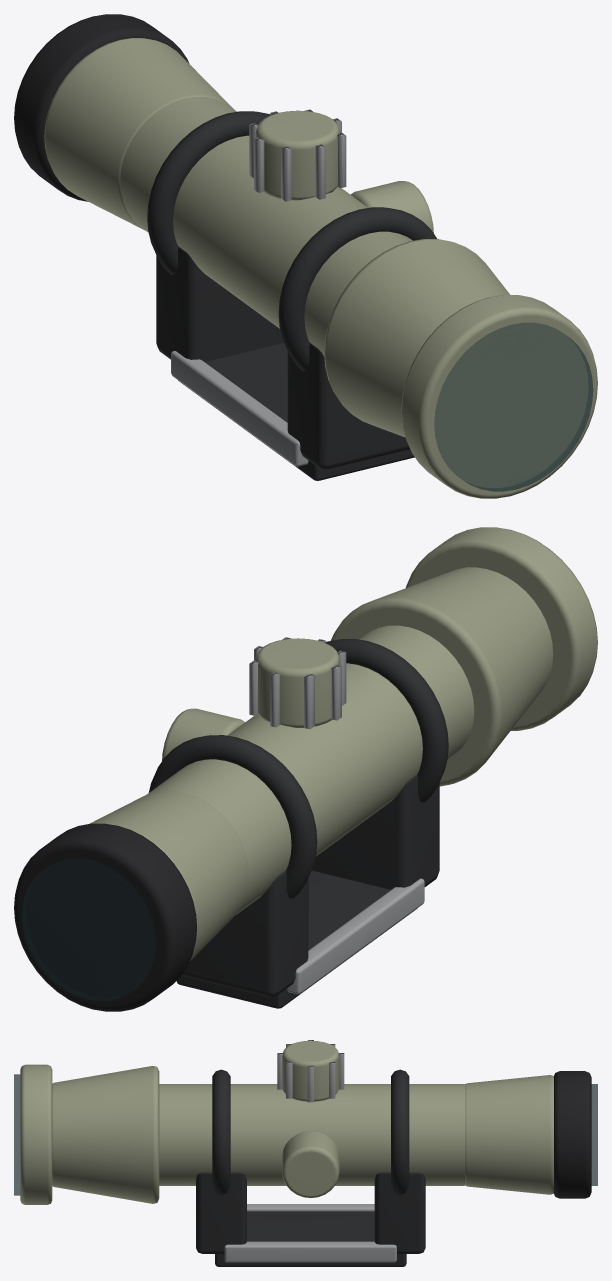
The model's file is scope4x.glb.
3 views of the same model, one above another, from view 1: azimuth 30°, elevation 25°; view 2: azimuth 150°, elevation 25°; view 3: azimuth 270°, elevation 25° (orthographic). The views are drawn at different scales.
Parts seen in each view (by area): view 1: scope4x; view 2: scope4x; view 3: scope4x.
Boxes of the visible parts, box(x1,y1,x2,y2) form: scope4x: box(14, 14, 597, 498); scope4x: box(14, 527, 597, 1011); scope4x: box(14, 1040, 597, 1266).
Bounding box in the file's own units: 0.051 × 0.069 × 0.183.
